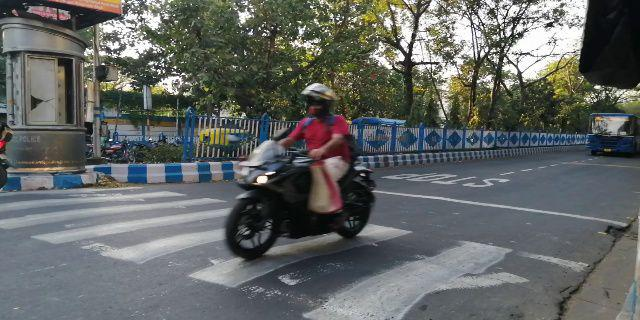Bus: (580, 107, 640, 159)
Motorbike: (216, 82, 380, 265)
